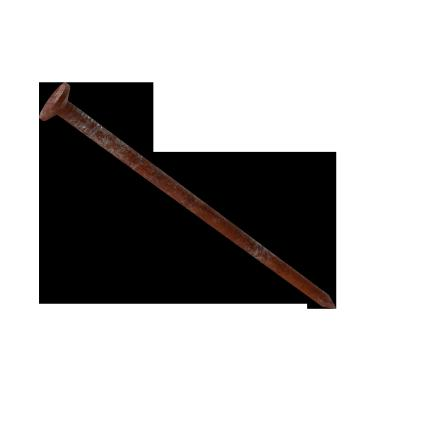karat: (40, 83, 335, 308)
